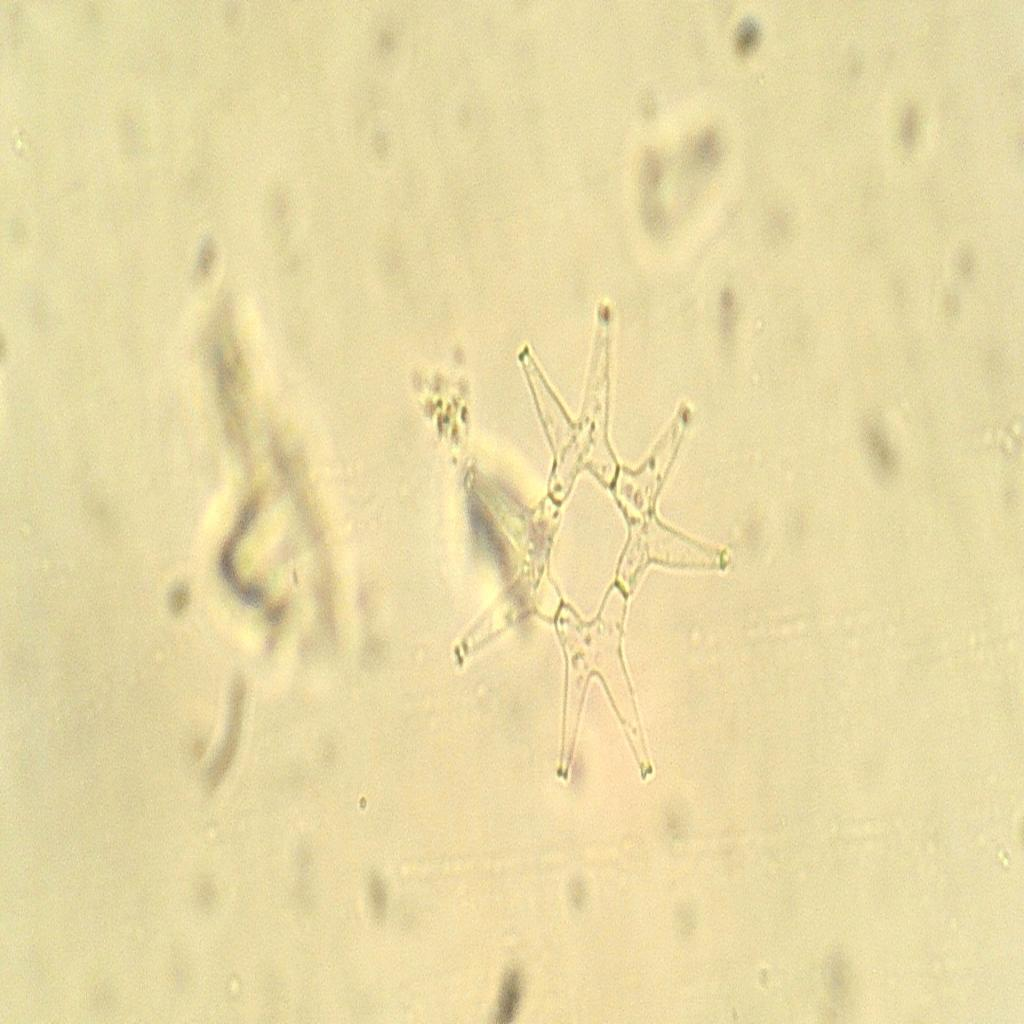Pediastrum_75TH: (430, 284, 738, 802)
